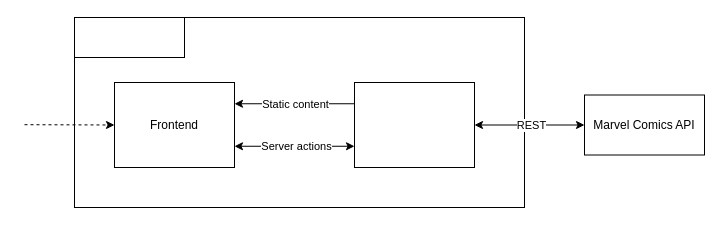
This 722x225 diagram has some shape labels left out. Here are the shapes that lost their labels. From the top down, the box of each, then its label:
(74, 16, 184, 58): Next.js App
(354, 82, 474, 168): Server
